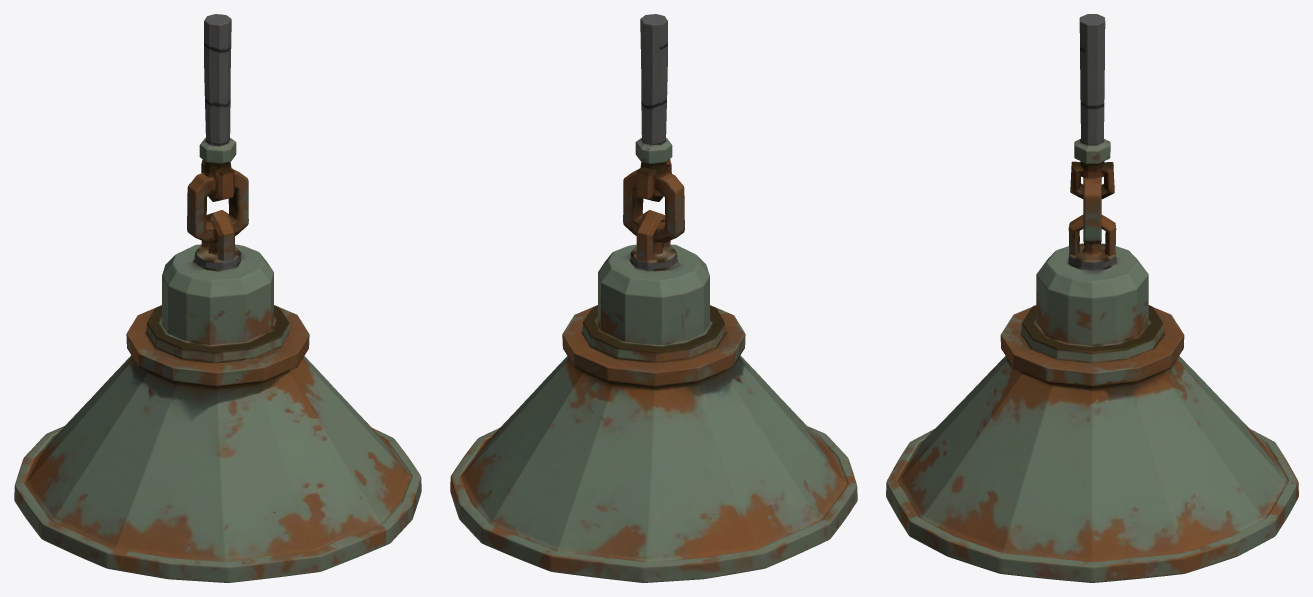
Rendered from Rusty Industrial Pendant Lamp.glb.
3 views of the same model, side by side, from view 1: azimuth 30°, elevation 25°; view 2: azimuth 150°, elevation 25°; view 3: azimuth 270°, elevation 25° (orthographic).
Parts seen in each view (by area): view 1: node_0; view 2: node_0; view 3: node_0.
Part boxes in pixels (bbox=[...]): node_0: bbox=[14, 14, 421, 582]; node_0: bbox=[450, 14, 857, 582]; node_0: bbox=[886, 14, 1298, 582].
Bounding box in the file's own units: 0.7758 × 1.1 × 0.7863.
1 material, 1 textured.
